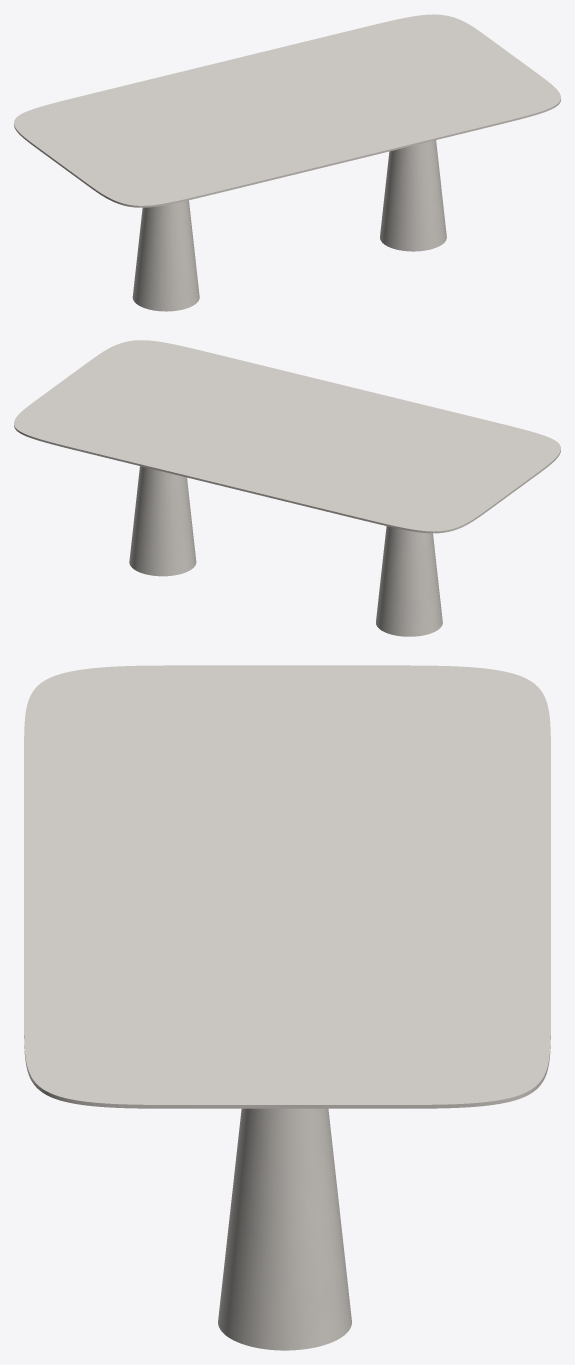
The model's file is pearlwhite_softrecta_facet_pebble.glb.
3 views of the same model, one above another, from view 1: azimuth 30°, elevation 25°; view 2: azimuth 150°, elevation 25°; view 3: azimuth 270°, elevation 25° (orthographic). The views are drawn at different scales.
Visible parts, largest first — view 1: facet_softrecta, pebble; view 2: facet_softrecta, pebble; view 3: facet_softrecta, pebble.
Boxes of the visible parts, bbox=[...] form: facet_softrecta: bbox=[14, 14, 560, 207]; pebble: bbox=[132, 140, 446, 311]; facet_softrecta: bbox=[14, 340, 560, 533]; pebble: bbox=[129, 466, 442, 636]; facet_softrecta: bbox=[24, 665, 550, 1108]; pebble: bbox=[218, 1108, 351, 1350].
Bounding box in the file's own units: 7.5 × 2.5 × 3.8.
Materials: 1 (1 with a texture image).
